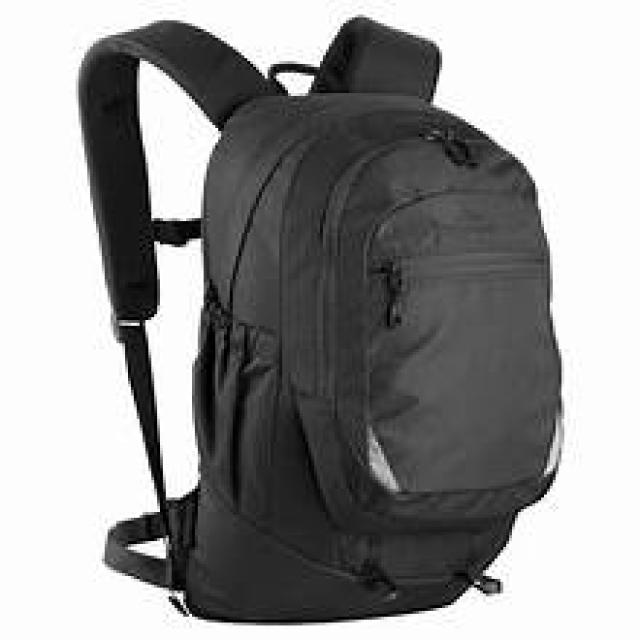backpack: (77, 13, 565, 624)
